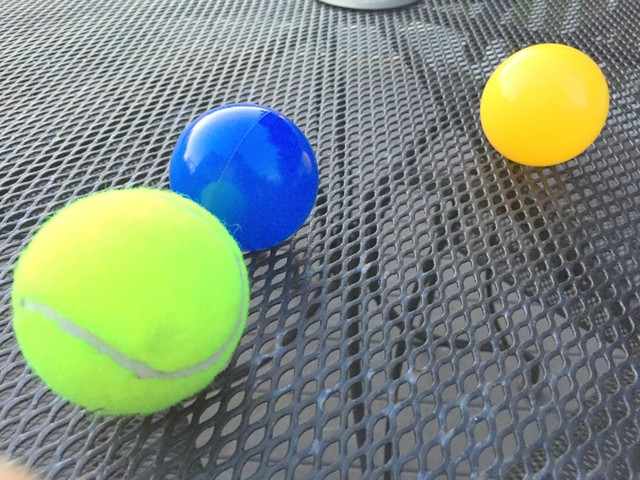Ball: (166, 103, 320, 251)
